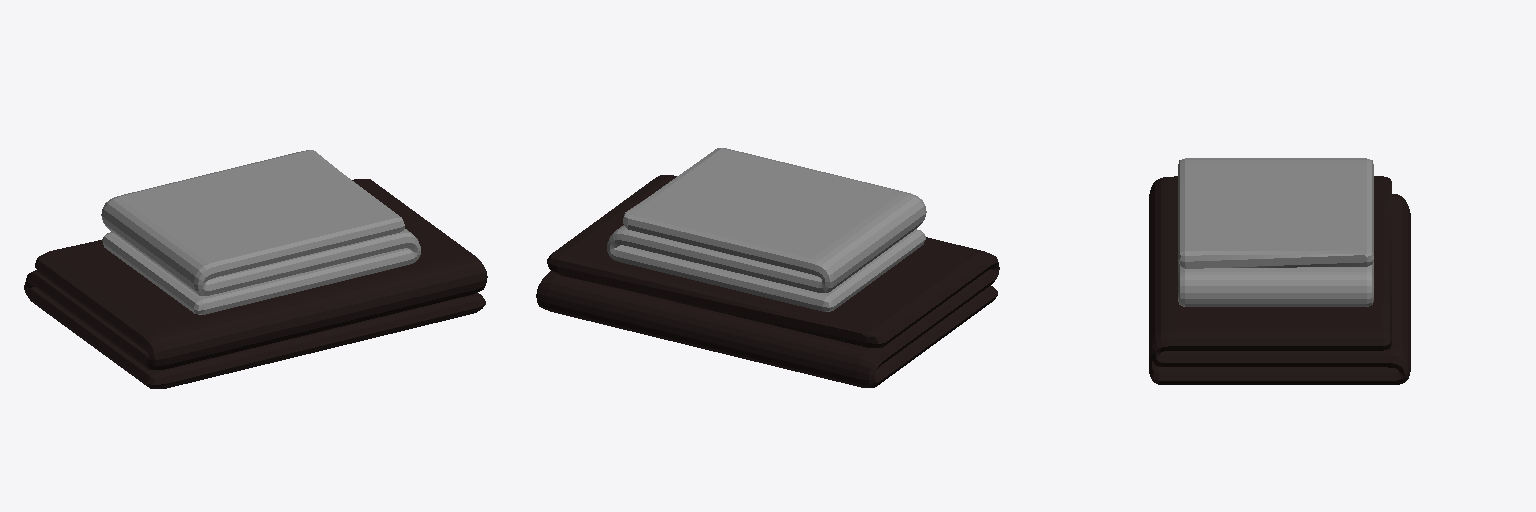
Rendered from Quilt_514.obj.
3 views of the same model, side by side, from view 1: azimuth 30°, elevation 25°; view 2: azimuth 150°, elevation 25°; view 3: azimuth 270°, elevation 25° (orthographic).
Parts seen in each view (by area): view 1: Line002, Line001; view 2: Line002, Line001; view 3: Line001, Line002.
Boxes of the visible parts, x1=… form: Line002: x1=24, y1=179, x2=487, y2=388; Line001: x1=101, y1=150, x2=420, y2=314; Line002: x1=536, y1=175, x2=999, y2=387; Line001: x1=607, y1=148, x2=926, y2=311; Line001: x1=1178, y1=158, x2=1373, y2=306; Line002: x1=1149, y1=176, x2=1410, y2=384.
Size of the model in its own units: 31.89 by 9.06 by 21.38.